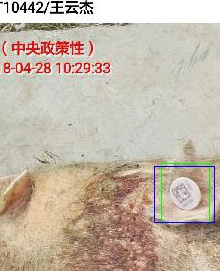text: (161, 163, 209, 222)
